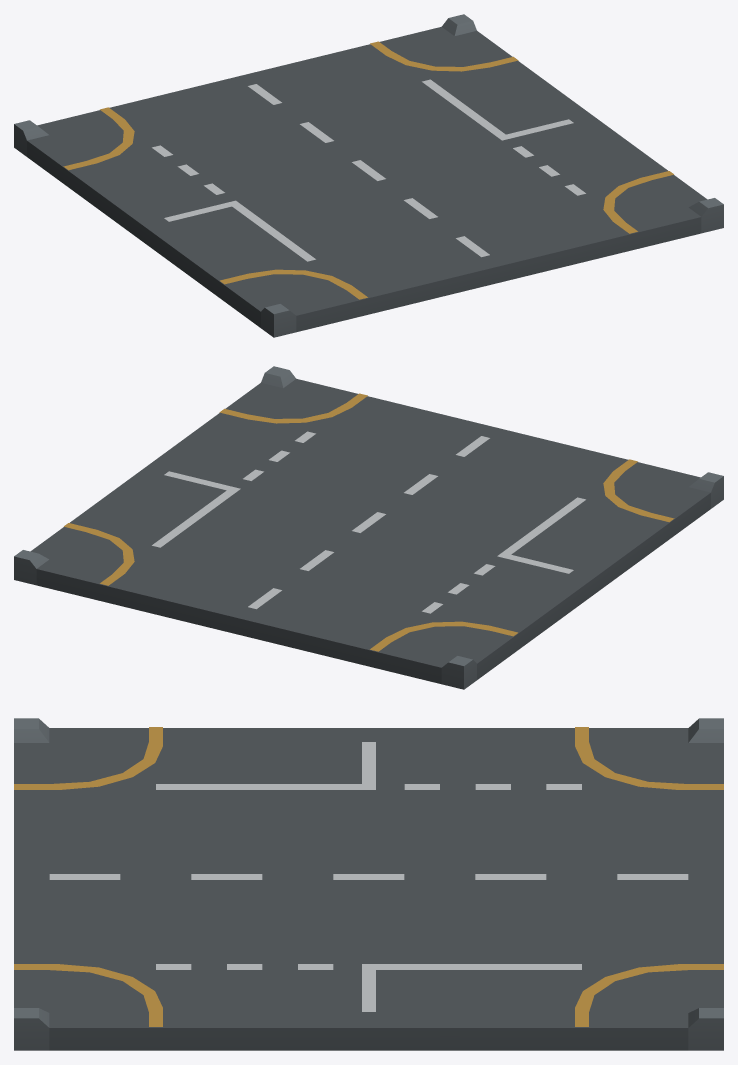
File: city-road-junction.glb
3 views of the same model, one above another, from view 1: azimuth 30°, elevation 25°; view 2: azimuth 150°, elevation 25°; view 3: azimuth 270°, elevation 25° (orthographic). The views are drawn at different scales.
Visible parts, largest first — view 1: road_junction; view 2: road_junction; view 3: road_junction.
Part boxes in pixels (x1,y1,x2,y2): road_junction: (14,14,723,337); road_junction: (14,366,723,689); road_junction: (14,718,723,1050).
Bounding box in the file's own units: 2 × 0.1 × 2.
